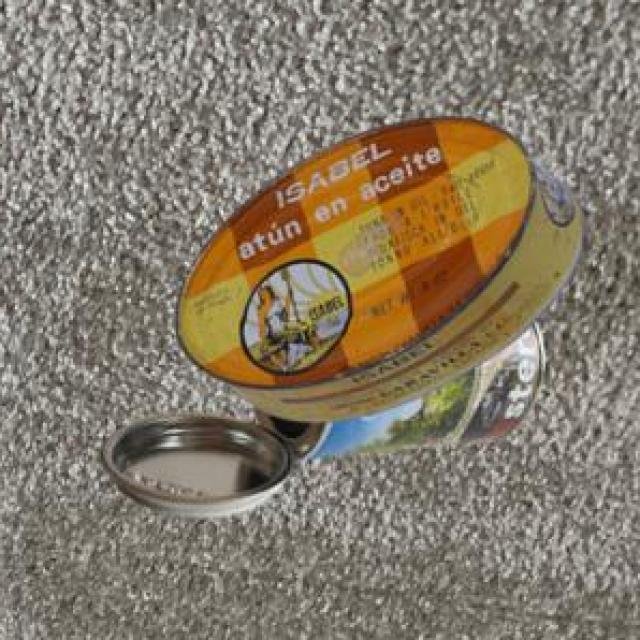logam: (179, 121, 587, 424), (104, 325, 547, 521)
